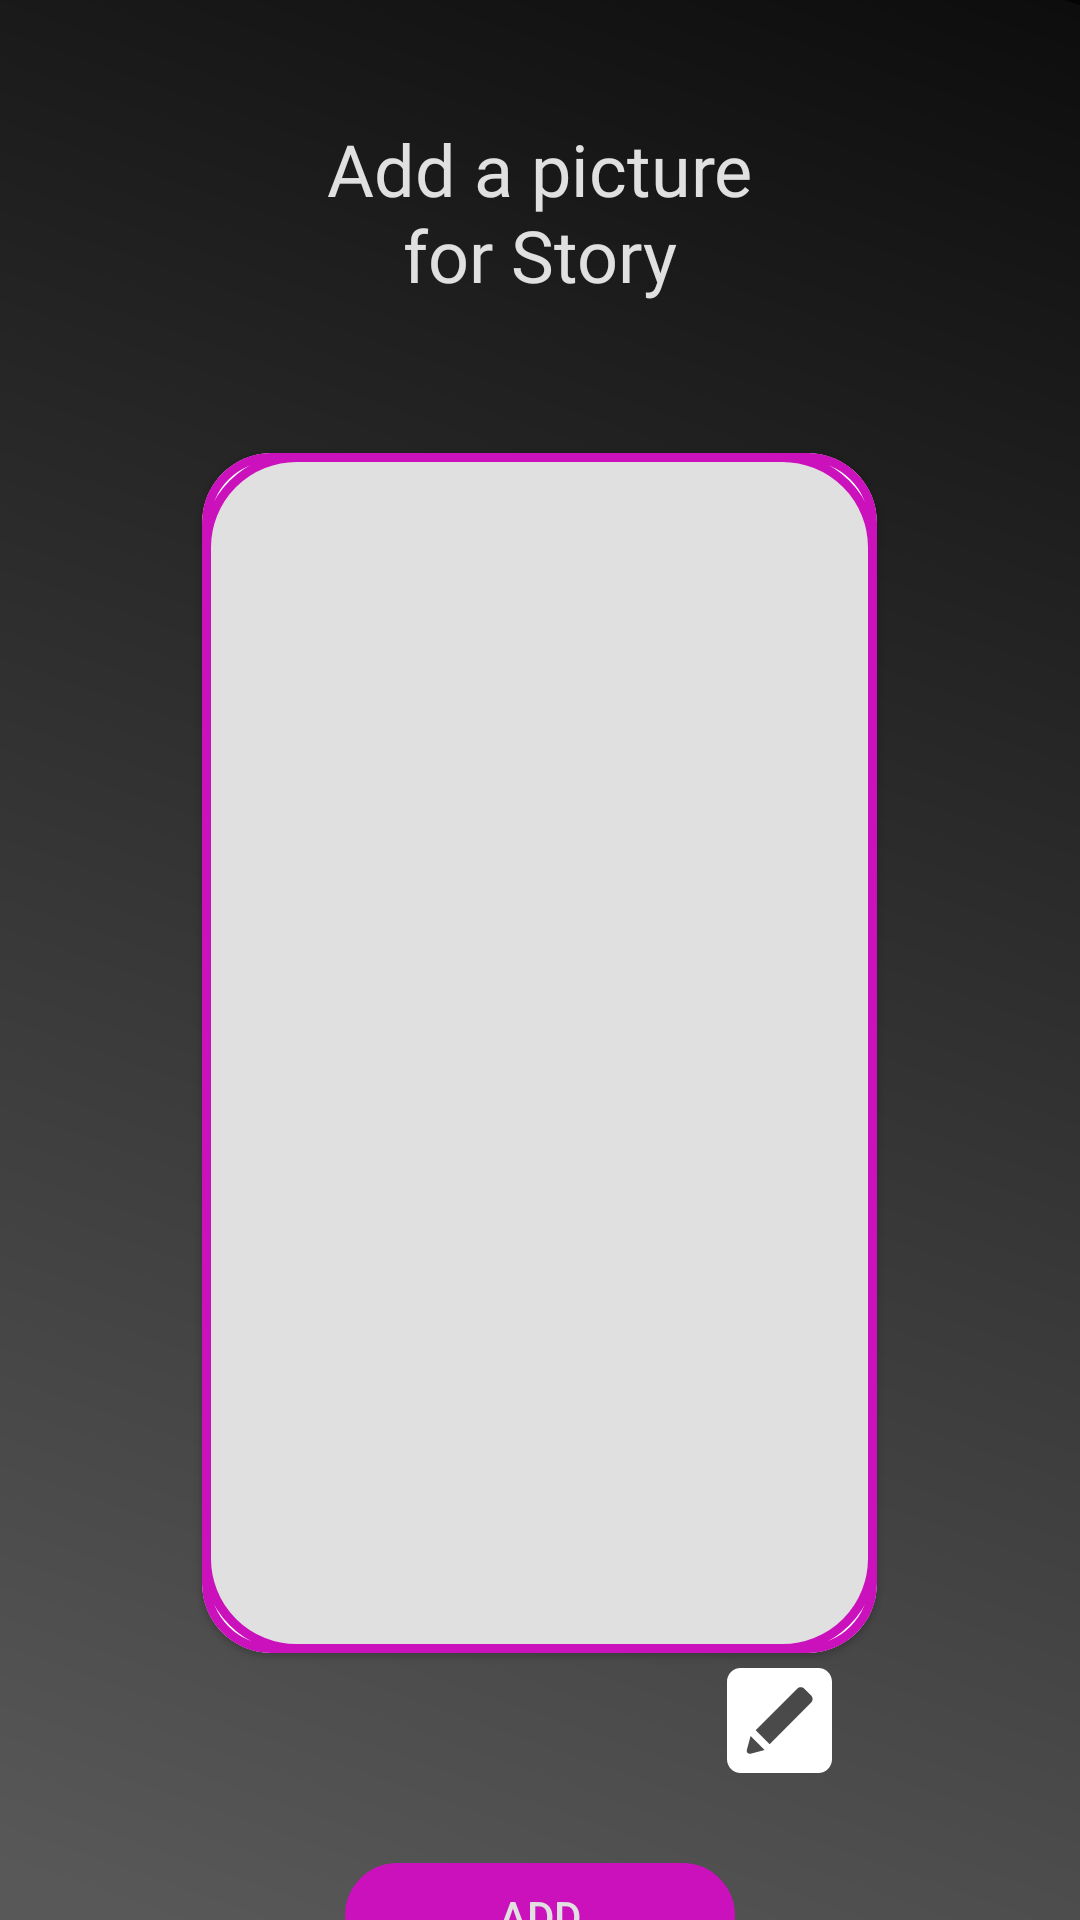

Where to tap for icons on this 1080*1920 app screen, as [x,y]:
pencil: [779,1720]
